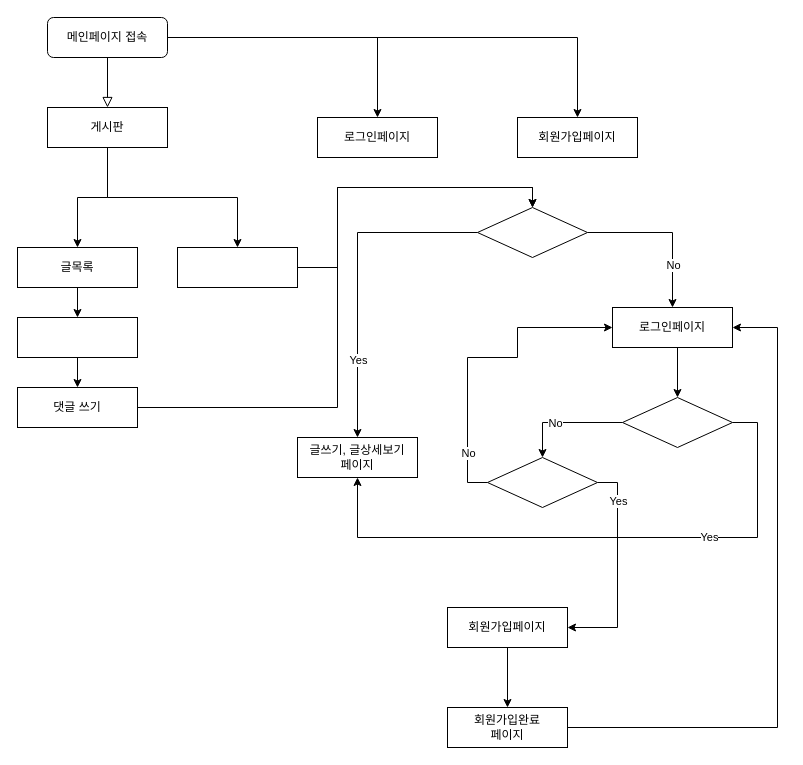
Some shapes in this 803 by 765 pixel diagram are drawn without their labels. The centre of each missing label's shape, as x and y in pixels:
글상세보기: [77,337]
글쓰기: [237,267]
로그인여부?: [532,232]
회원가입희망?: [542,482]
회원여부?: [677,422]
